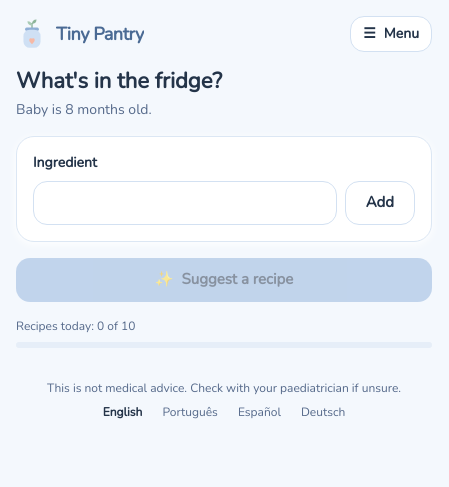
Test: a translated ingredient still gets the emoji of its English name
The image size is (449, 487).
Click the button "☰ Menu": click(391, 34) [350,16,432,52]
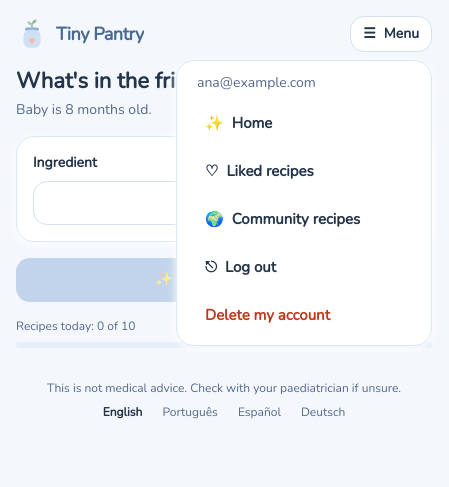
Click the button "♡ Liked recipes": click(304, 171) [185,149,423,193]
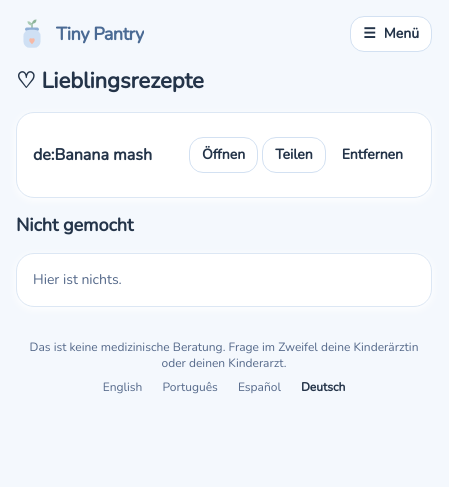
Click the button "Öffnen": click(224, 154) [189,136,258,172]
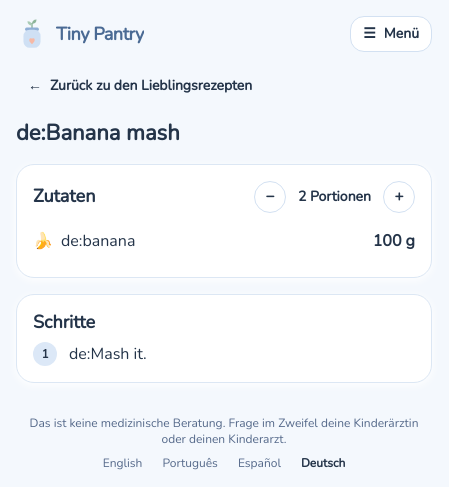
Expected: the heading "de:Banana mash" is shown, [16,118,180,148]
Expected: the text "🍌" is shown, [33,228,53,252]
